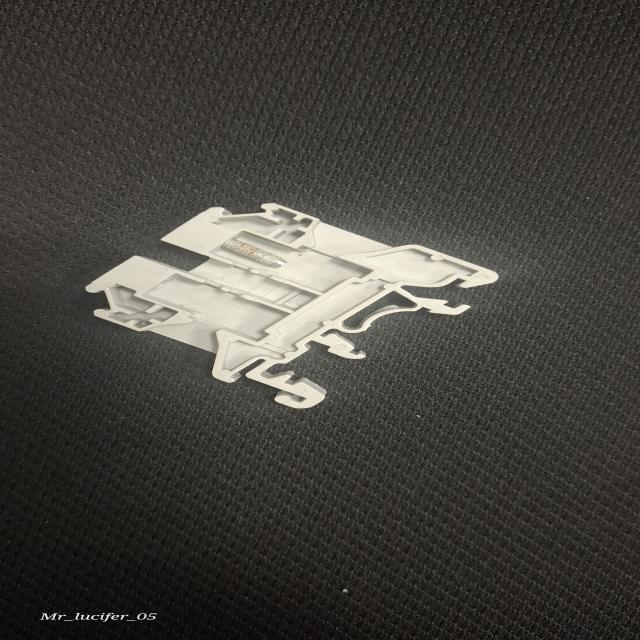Reject: (39, 198, 518, 415)
